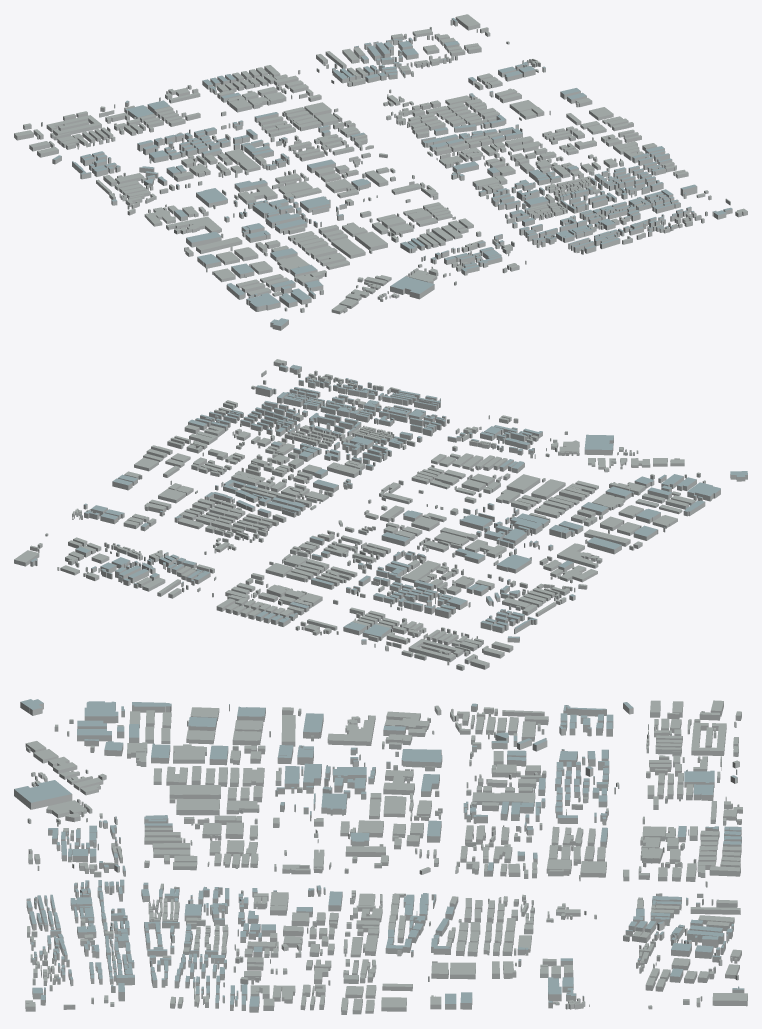
The model's file is far.glb.
The picture shows the model from 3 angles, top to bottom: view 1: azimuth 30°, elevation 25°; view 2: azimuth 150°, elevation 25°; view 3: azimuth 270°, elevation 25°; orthographic projection. The views are drawn at different scales.
Bounding box in the file's own units: 2161 × 30.1 × 2162.
